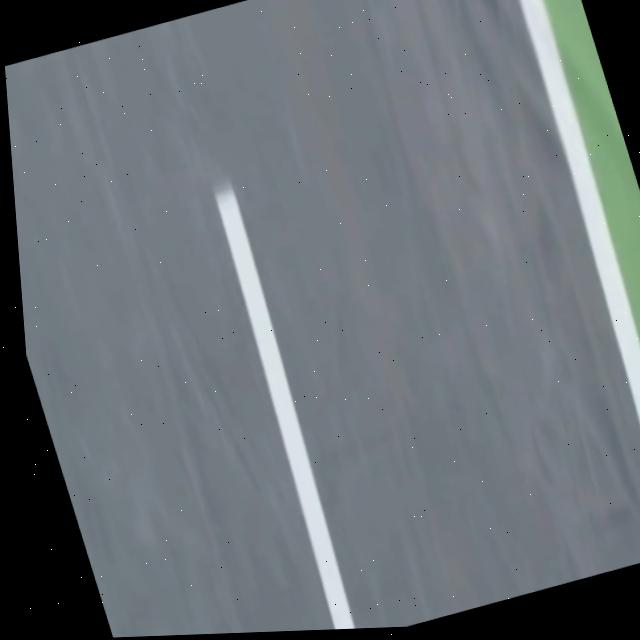center: (214, 183, 355, 629)
right: (518, 0, 640, 425)
